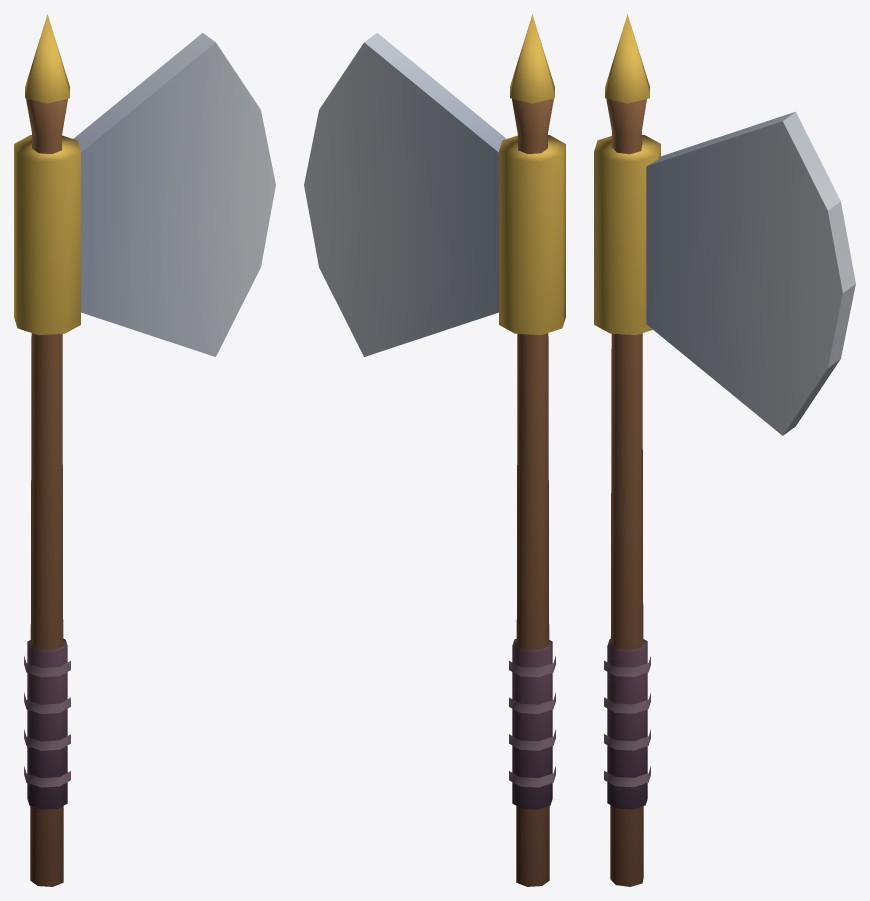
Rendered from axe.glb.
3 renders of one model, left to right at view 1: azimuth 30°, elevation 25°; view 2: azimuth 150°, elevation 25°; view 3: azimuth 330°, elevation 25°, orthographic.
Visible parts, largest first — view 1: axe; view 2: axe; view 3: axe.
Part boxes in pixels (x1,y1,x2,y2): axe: (14, 14, 275, 886); axe: (304, 14, 565, 886); axe: (594, 14, 855, 886).
Size of the model in its own units: 0.335 by 1.1 by 0.08.
